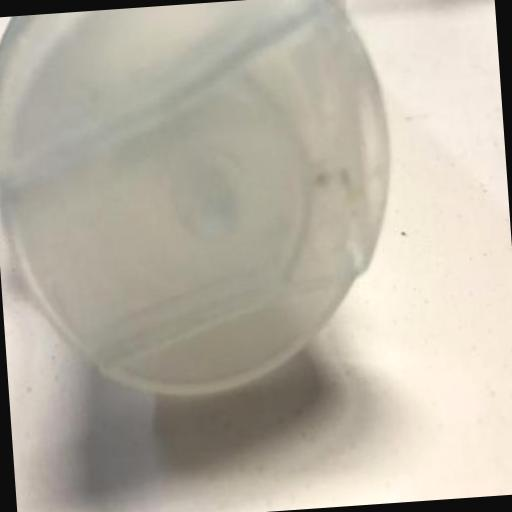plastic: (0, 0, 407, 405)
